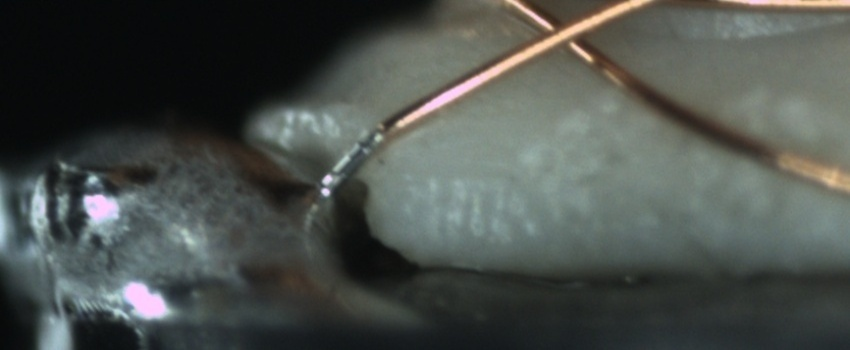CL: (514, 3, 614, 66)
TS: (319, 128, 386, 195)
